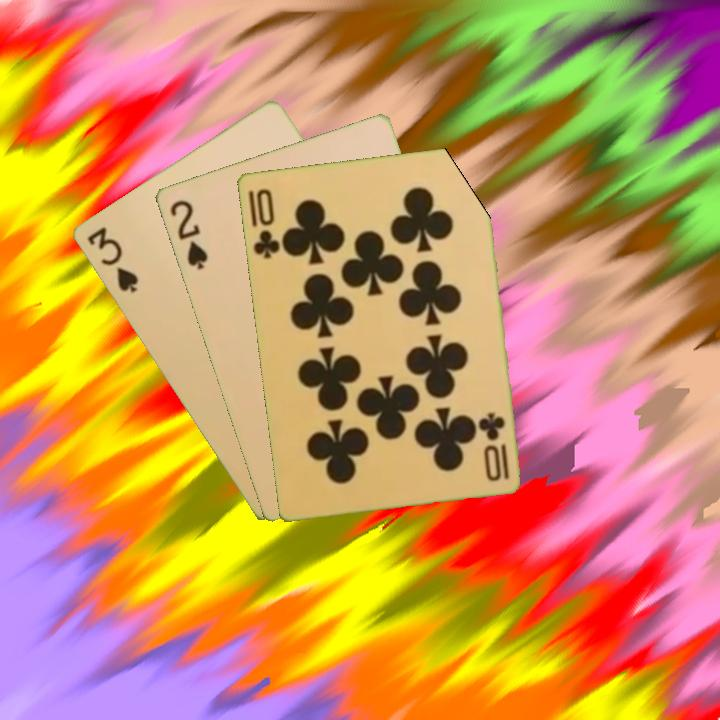10c: (244, 184, 282, 261), (477, 408, 512, 484)
2s: (166, 196, 210, 272)
3s: (83, 223, 141, 296)
